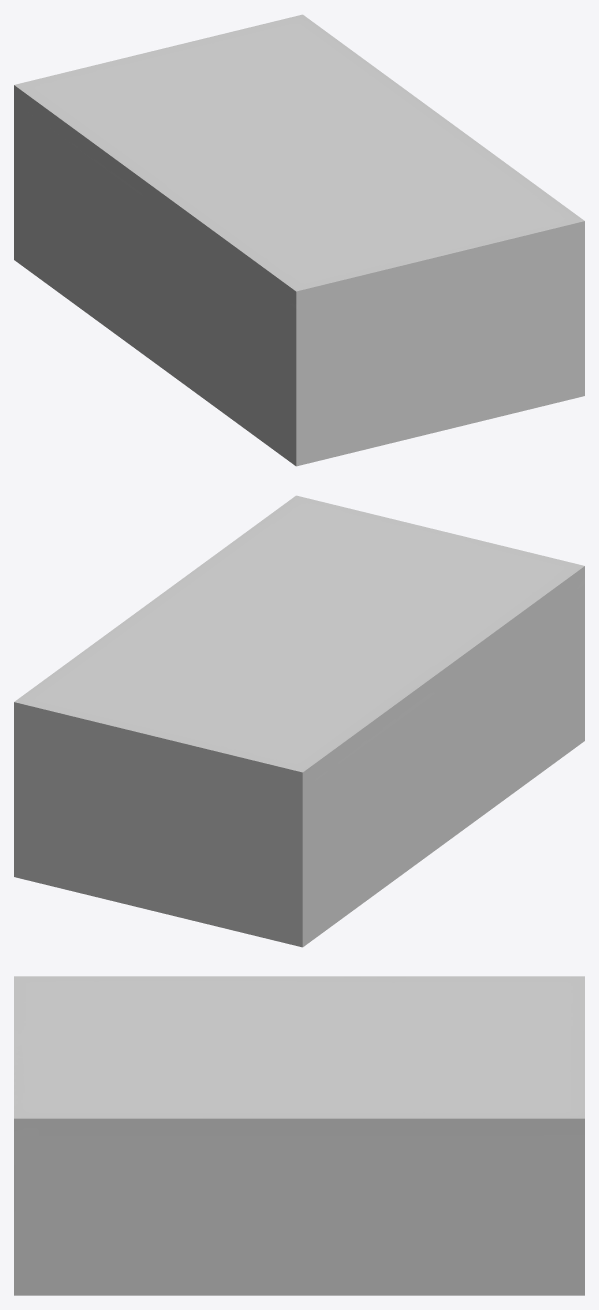
The model's file is objs_.glb.
3 views of the same model, one above another, from view 1: azimuth 30°, elevation 25°; view 2: azimuth 150°, elevation 25°; view 3: azimuth 270°, elevation 25° (orthographic).
Visible parts, largest first — view 1: roof, background; view 2: roof, background; view 3: roof, background.
Part boxes in pixels (x1,y1,x2,y2): roof: (14, 14, 584, 309); background: (14, 103, 584, 466); roof: (14, 495, 584, 790); background: (14, 584, 584, 947); roof: (14, 976, 584, 1136); background: (14, 1137, 584, 1295).
Bounding box in the file's own units: 6 × 3.47 × 10.16.
2 materials, 2 textured.
